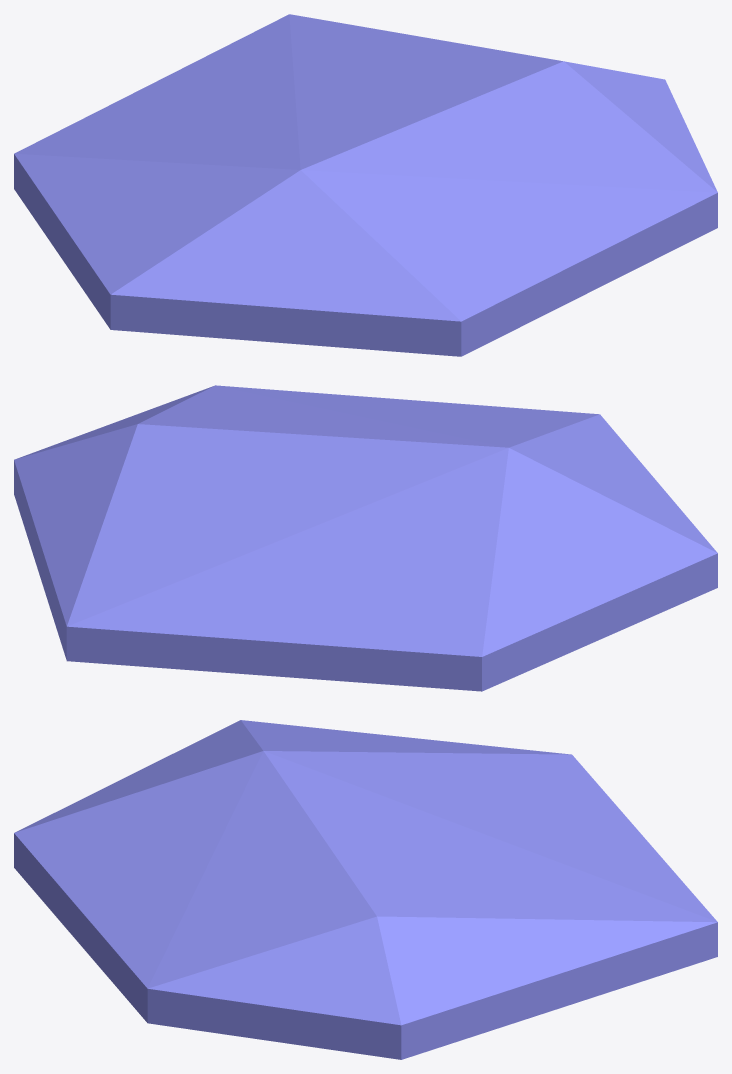
File: Pile_01_Collider_01.FBX
The picture shows the model from 3 angles, top to bottom: view 1: azimuth 30°, elevation 25°; view 2: azimuth 150°, elevation 25°; view 3: azimuth 270°, elevation 25°; orthographic projection. The views are drawn at different scales.
Visible parts, largest first — view 1: COLLIDER1; view 2: COLLIDER1; view 3: COLLIDER1.
Part boxes in pixels (left/top/right/bottom): COLLIDER1: left=14, top=14, right=717, bottom=356; COLLIDER1: left=14, top=385, right=717, bottom=691; COLLIDER1: left=14, top=720, right=717, bottom=1059.
Size of the model in its own units: 152 by 23.24 by 148.
